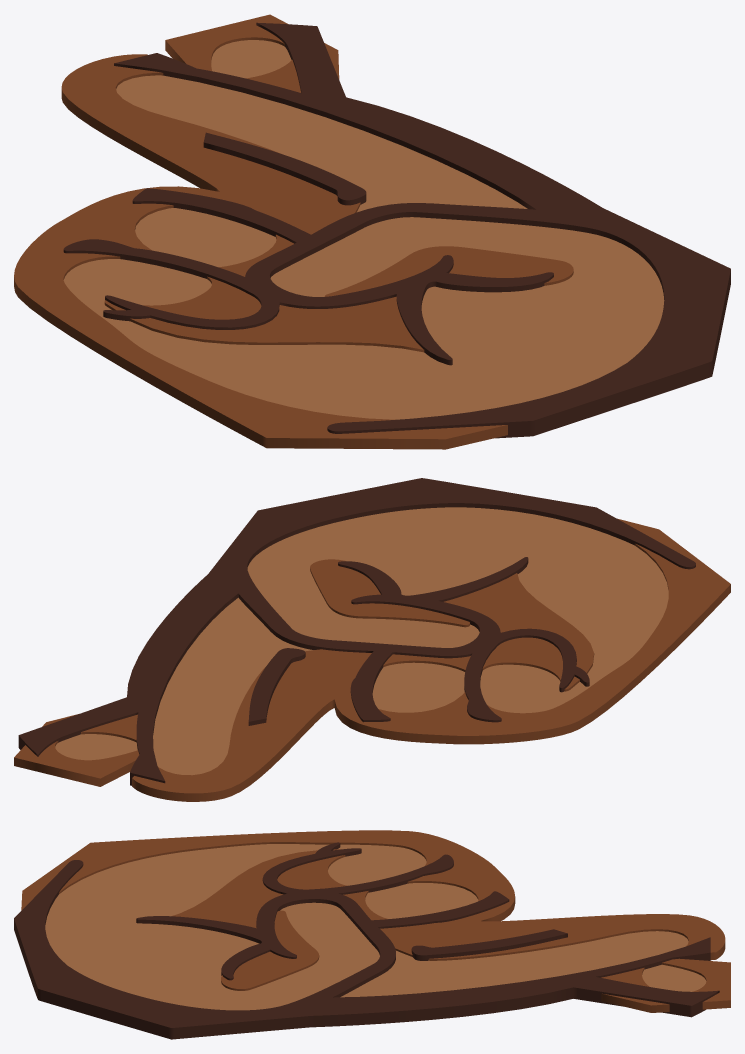
File: emoji_u1f91e_1f3fe.glb
The picture shows the model from 3 angles, top to bottom: view 1: azimuth 30°, elevation 25°; view 2: azimuth 150°, elevation 25°; view 3: azimuth 270°, elevation 25°; orthographic projection. The views are drawn at different scales.
Parts seen in each view (by area): view 1: emoji_u1f91e_1f3fe; view 2: emoji_u1f91e_1f3fe; view 3: emoji_u1f91e_1f3fe.
Boxes of the visible parts, <box> form: emoji_u1f91e_1f3fe: <box>14,14,730,449</box>; emoji_u1f91e_1f3fe: <box>14,478,730,801</box>; emoji_u1f91e_1f3fe: <box>14,830,730,1039</box>.
Size of the model in its own units: 0.0225 by 0.0008 by 0.0341.
